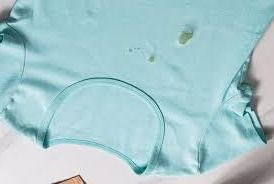mustard: (177, 25, 196, 45), (147, 55, 157, 69), (125, 47, 143, 53)
